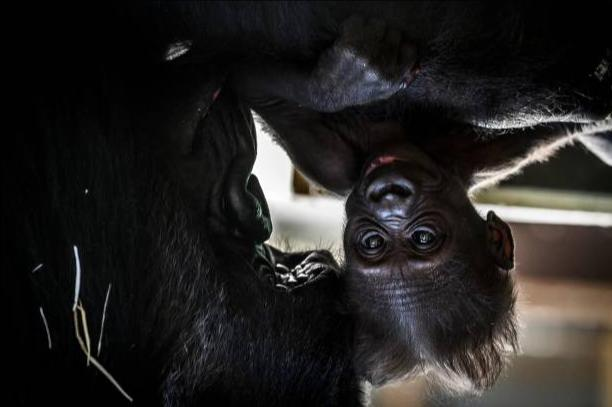gorille_Autres: (226, 27, 544, 394)
